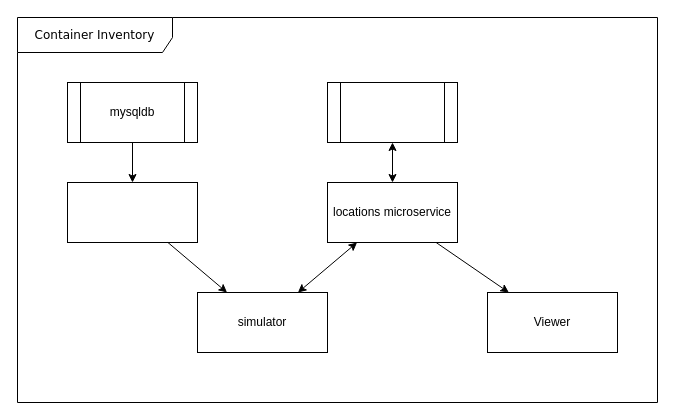
Image size: 675x420. Some labels were removed from this diagram. Each missing label, with the centre of its shape:
"corp microservice" belongs at [132,212].
"mongodb" belongs at [392,112].
